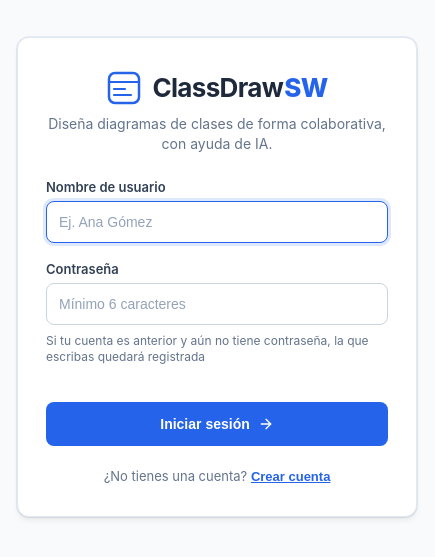
it: LoginScreen Component › shows error alert with aria-live when login request fails
The image size is (435, 557).
Type "Carlos" into the field labelled "Nombre de usuario" at (217, 222), box [46,200,388,242]
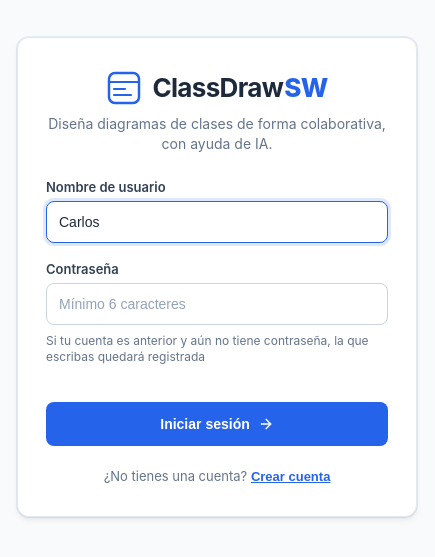
Type "password123" into the password field labelled "Contraseña" at (217, 304), box [46,282,388,324]
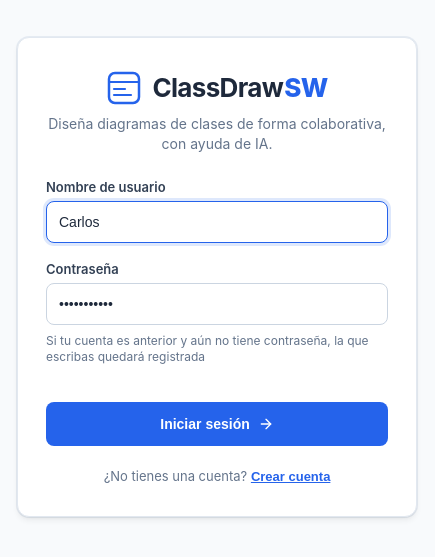
Click the button "Iniciar sesión" at (217, 424), box [46,402,388,446]
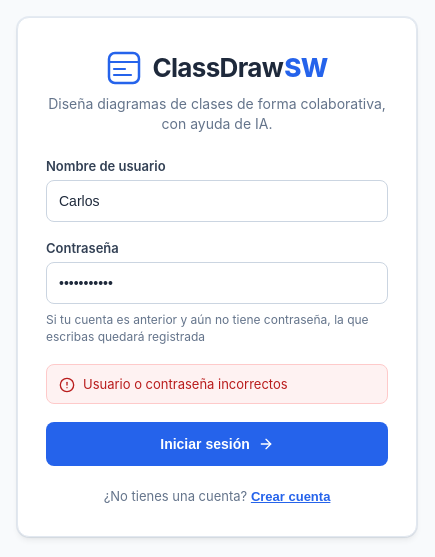
Check: the message reads "Usuario o contraseña incorrectos", box [83,376,288,392]
